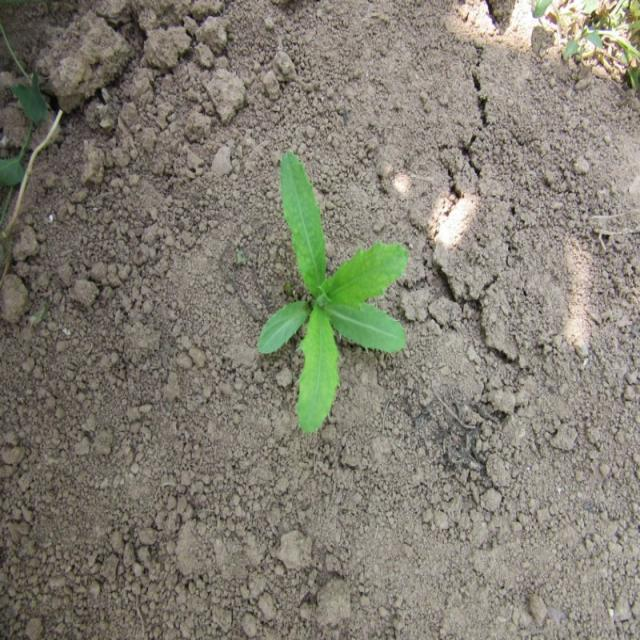field_thistle: (220, 140, 428, 414)
